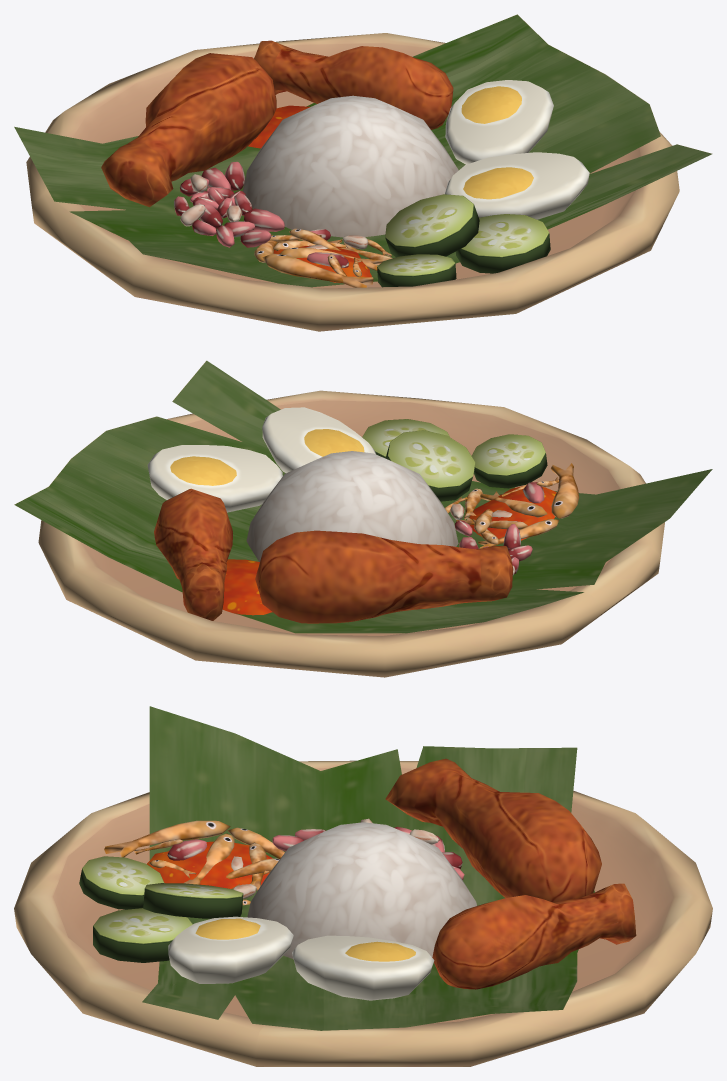
The model's file is 3DModel.obj.
The picture shows the model from 3 angles, top to bottom: view 1: azimuth 30°, elevation 25°; view 2: azimuth 150°, elevation 25°; view 3: azimuth 270°, elevation 25°; orthographic projection. The views are drawn at different scales.
Parts seen in each view (by area): view 1: obj1; view 2: obj1; view 3: obj1.
Boxes of the visible parts, x1,y1,x2,y2 form: obj1: (14, 14, 712, 331); obj1: (14, 360, 712, 677); obj1: (14, 706, 712, 1066).
Bounding box in the file's own units: 1 × 0.175 × 1.
